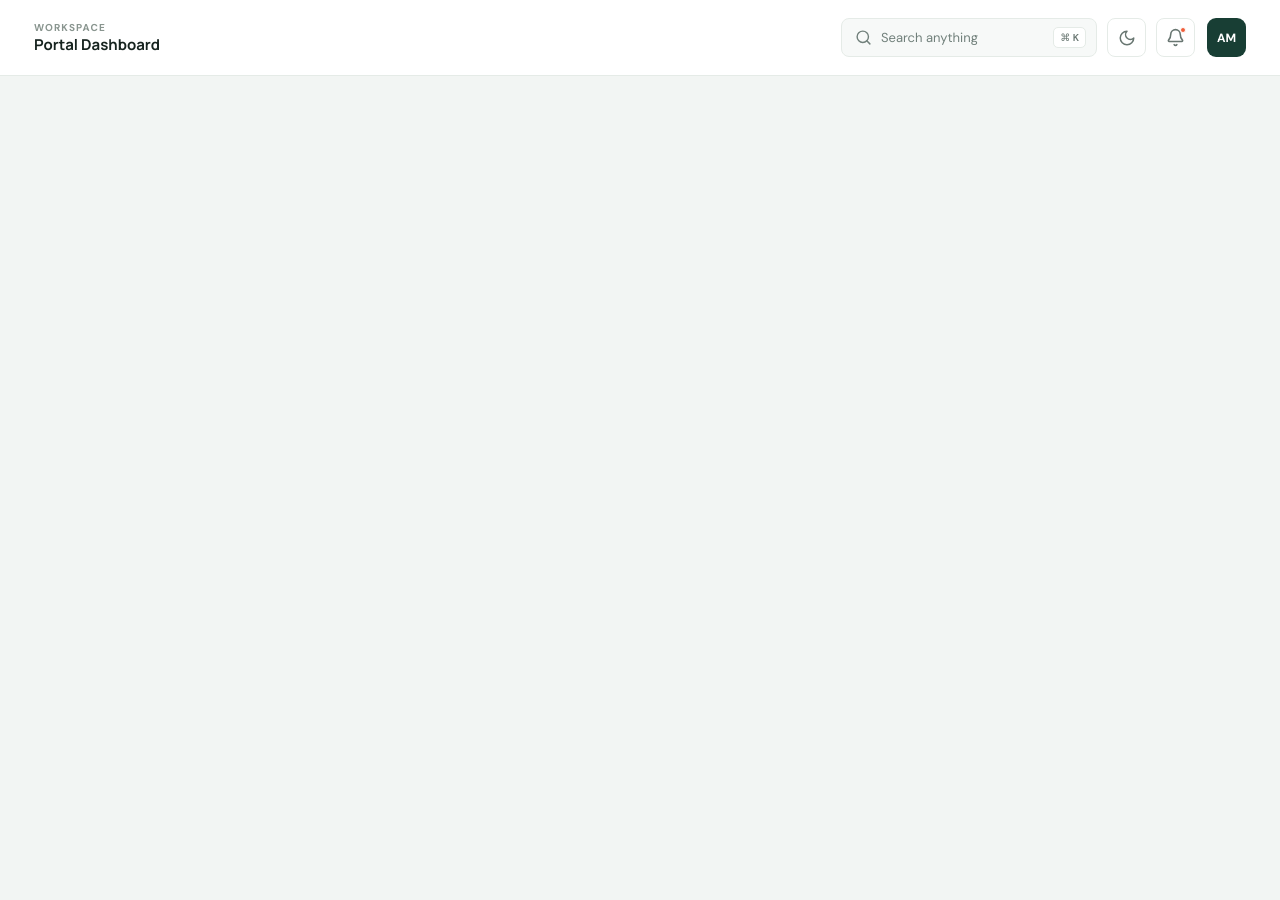
Test: Header › opens the profile menu with sensible focus and dismisses it outside
Step 1. Click the button with aria-label "User menu for Alex Morgan" → [1226, 38], box [1207,18,1246,57]
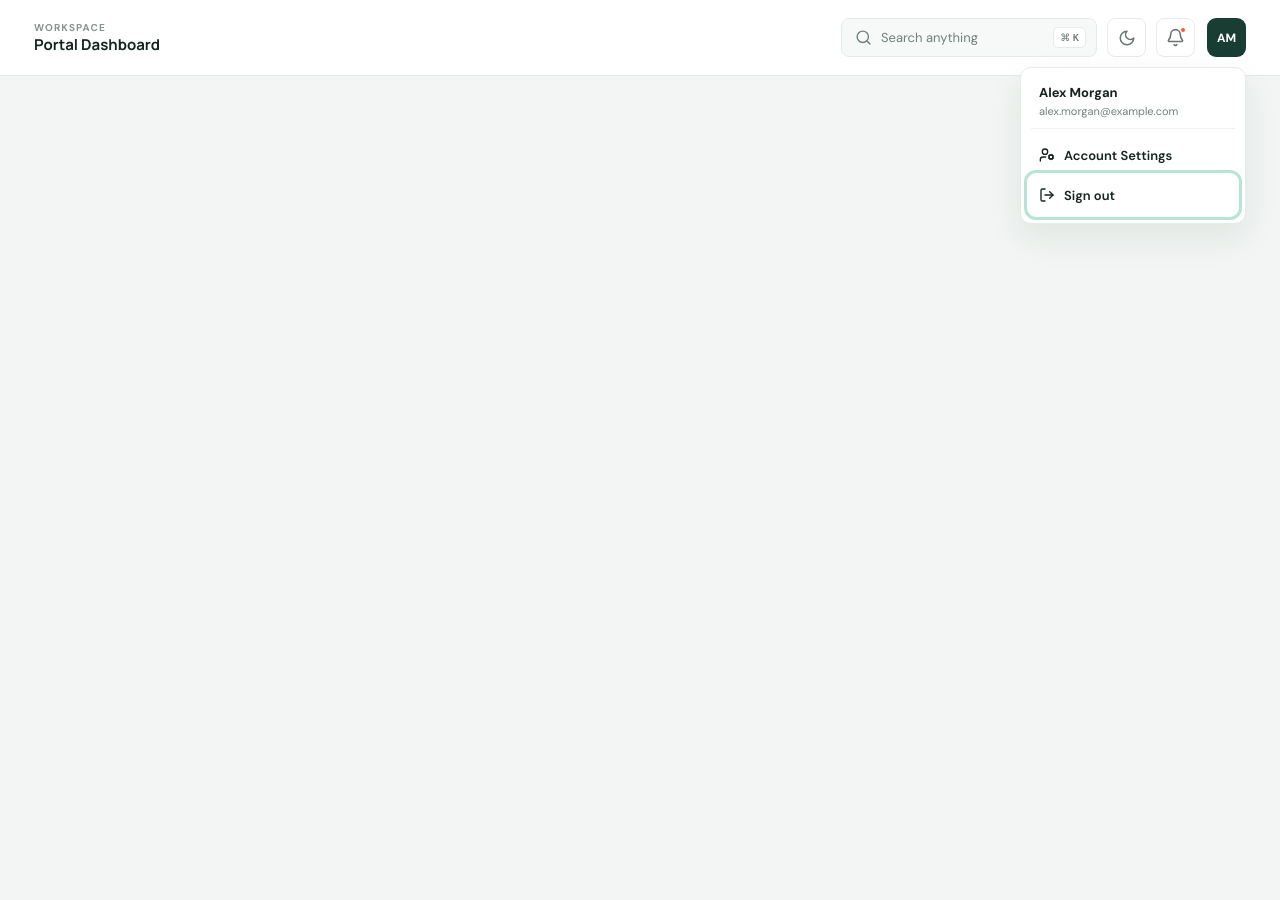
Expected: the text "Alex Morgan" is shown, [1039,84,1118,101]
Expected: the text "alex.morgan@example.com" is shown, [1039,104,1178,118]
Step 2. Click the element that starts with "Workspace" → [640, 450], box [0,0,1279,899]
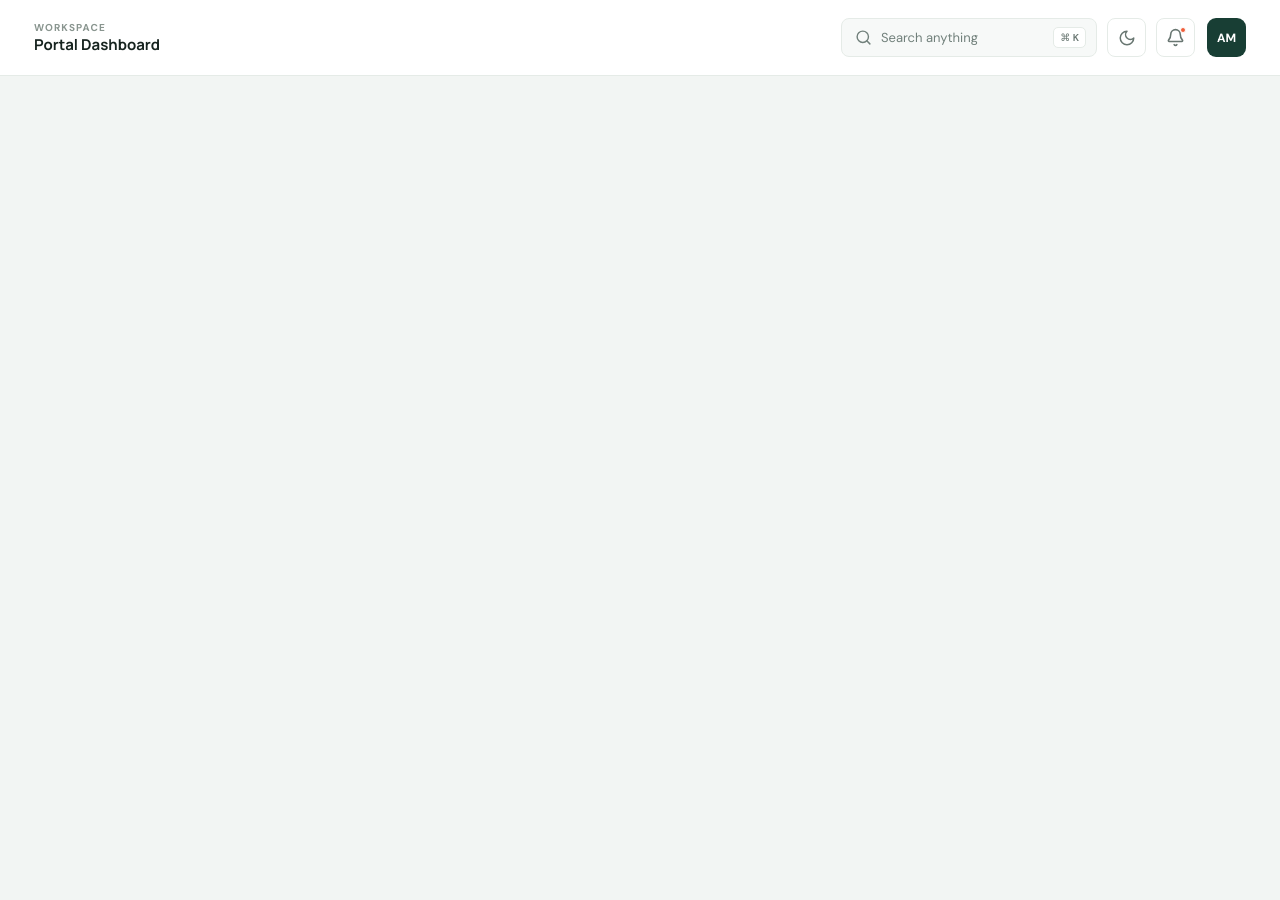
Expected: the menu is gone
